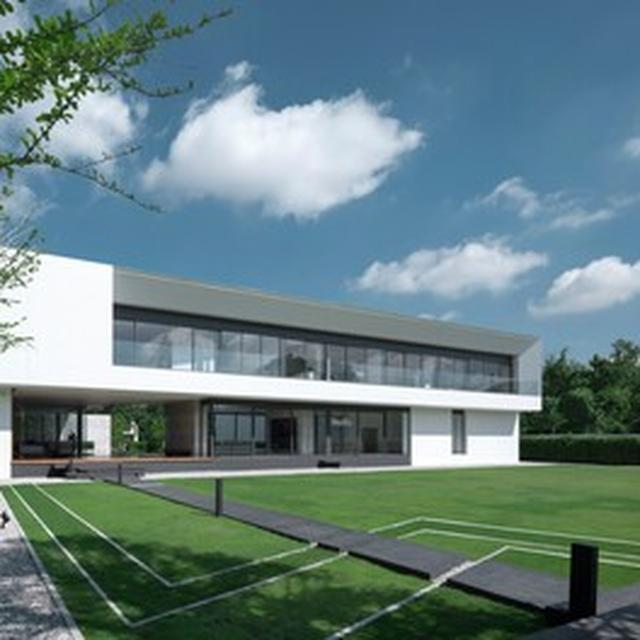building: (0, 242, 545, 470)
